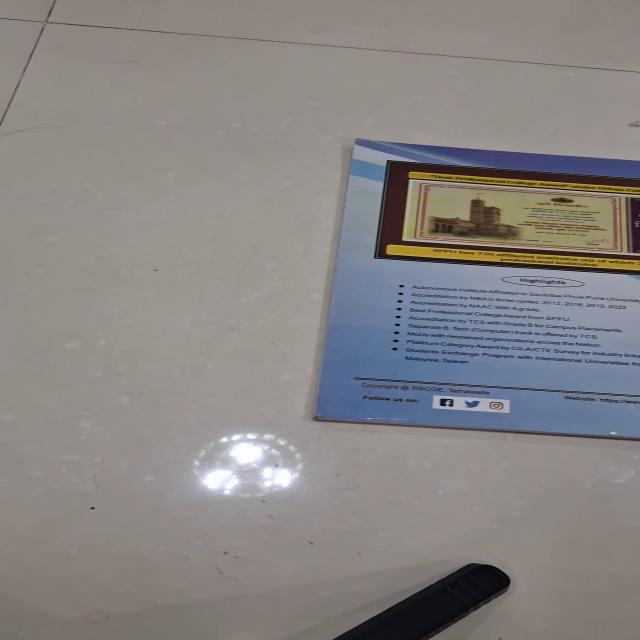paper: (310, 137, 639, 440)
